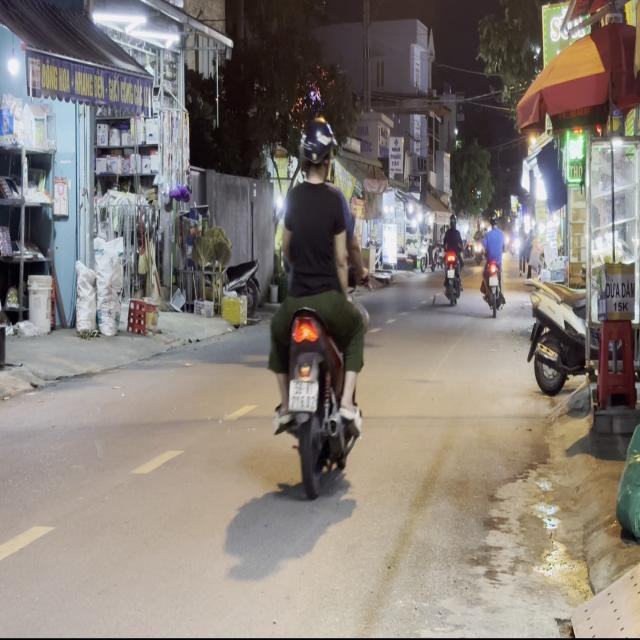helmet: (298, 116, 336, 180)
licenseplate: (264, 112, 369, 494)
nohelmet: (288, 379, 317, 410)
